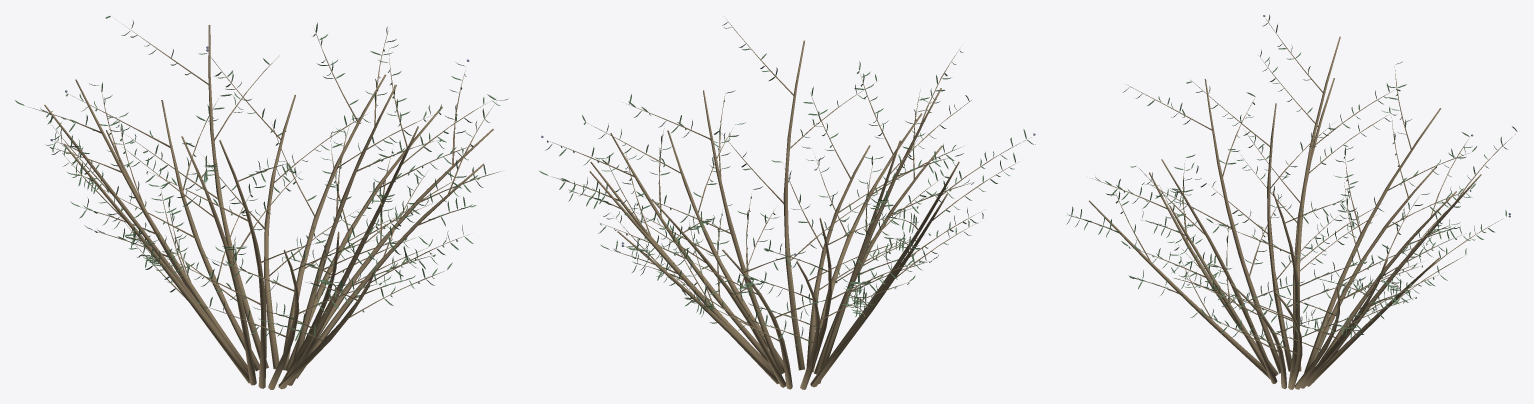
File: Romarin_1_Niveau0.fbx
3 renders of one model, left to right at view 1: azimuth 30°, elevation 25°; view 2: azimuth 150°, elevation 25°; view 3: azimuth 270°, elevation 25°, orthographic. The views are drawn at different scales.
Visible parts, largest first — view 1: Romarin_1_Niveau0; view 2: Romarin_1_Niveau0; view 3: Romarin_1_Niveau0.
Part boxes in pixels (x1=…): Romarin_1_Niveau0: x1=15, y1=16, x2=508, y2=389; Romarin_1_Niveau0: x1=539, y1=19, x2=1035, y2=389; Romarin_1_Niveau0: x1=1066, y1=14, x2=1517, y2=389.
Bounding box in the file's own units: 109 × 69.4 × 105.
